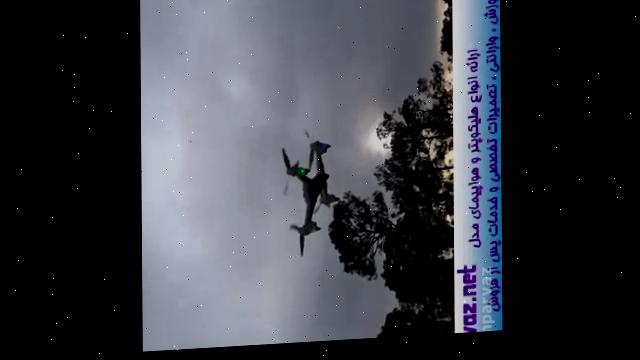drone: (276, 127, 343, 264)
